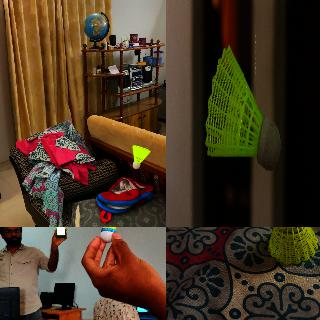shuttlecock: (205, 44, 280, 170), (267, 227, 318, 265), (94, 227, 132, 242), (132, 145, 150, 169)
